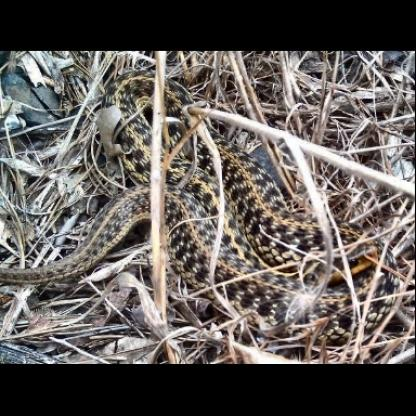Snake: (104, 67, 399, 343)
